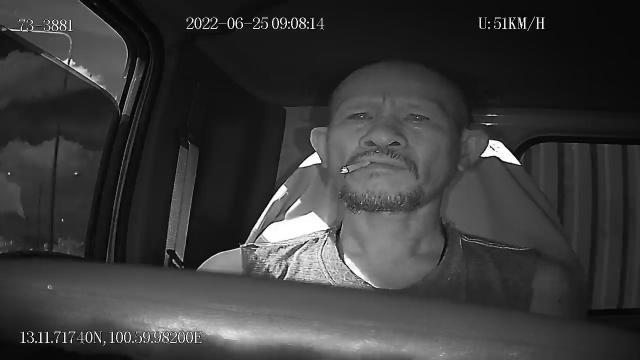SafeDriving: (396, 102, 436, 130), (338, 102, 378, 128)
Smoking: (339, 162, 369, 174)
